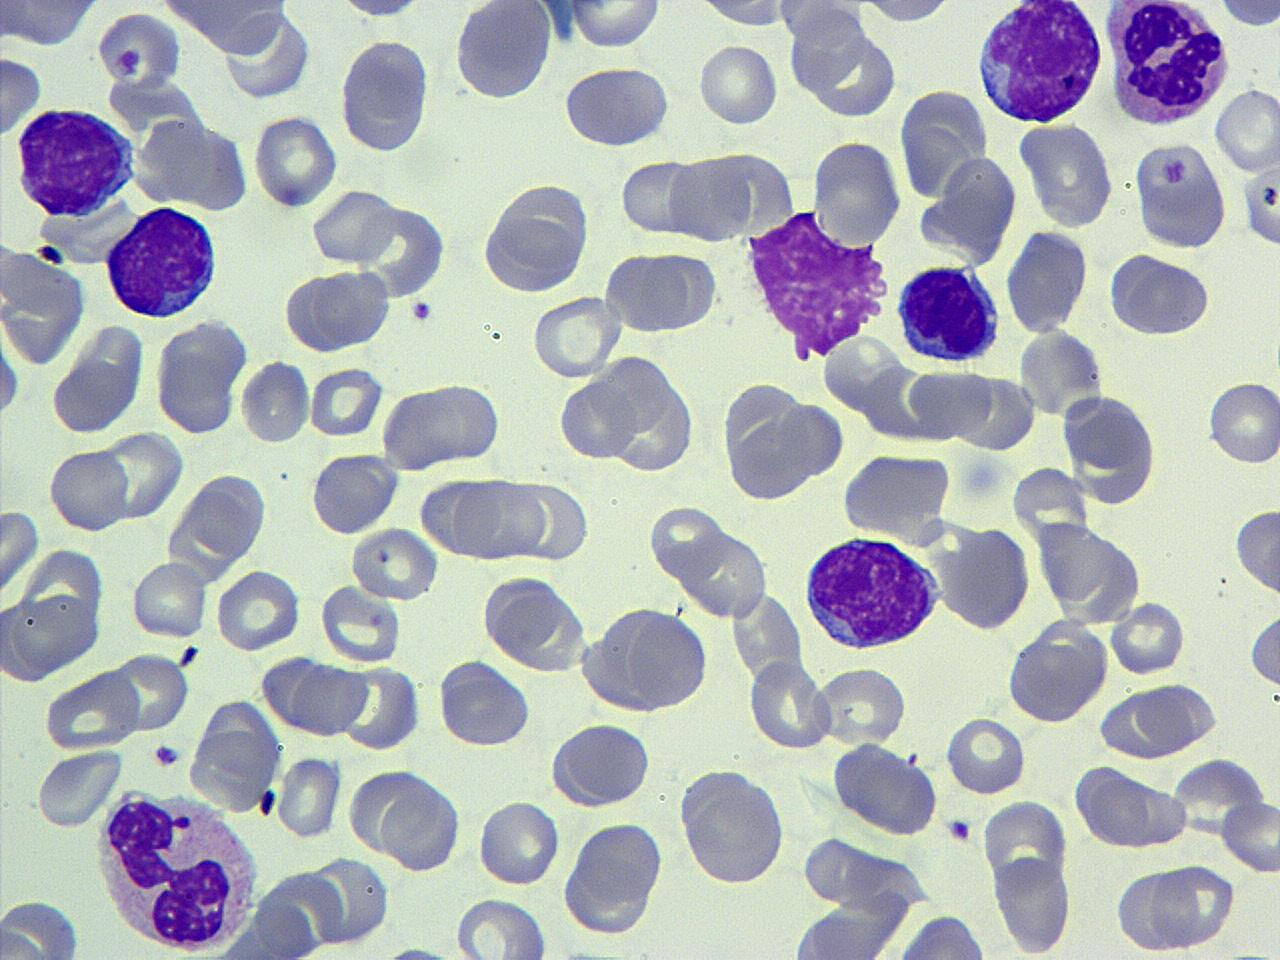Platelets: (96, 8, 183, 93), (959, 453, 1003, 502), (544, 2, 576, 46), (386, 942, 448, 960), (151, 742, 182, 770), (556, 943, 606, 960), (944, 815, 974, 843), (258, 786, 280, 818), (554, 17, 576, 47), (410, 297, 434, 323)
RBC: (1, 540, 109, 684), (558, 818, 664, 940), (597, 350, 698, 478), (786, 10, 901, 122), (914, 153, 1022, 265), (1006, 613, 1110, 727), (1061, 390, 1159, 509), (338, 34, 433, 156), (152, 316, 247, 436), (168, 468, 273, 576), (932, 524, 1036, 632), (1132, 138, 1230, 251), (1016, 119, 1116, 229), (0, 246, 90, 367), (832, 742, 944, 838), (810, 136, 904, 248), (843, 449, 954, 542), (560, 63, 672, 149), (439, 474, 546, 564), (546, 721, 654, 808), (187, 716, 280, 814), (435, 656, 534, 748), (1107, 251, 1209, 340), (220, 7, 314, 100), (251, 112, 340, 210), (678, 528, 768, 622), (529, 293, 625, 381), (992, 853, 1074, 955), (814, 662, 909, 748), (746, 660, 834, 752), (34, 744, 125, 832), (380, 777, 464, 872), (306, 855, 392, 946), (668, 152, 751, 246), (43, 670, 139, 751), (1152, 859, 1236, 951), (308, 450, 397, 536), (696, 39, 780, 130), (346, 766, 429, 858), (1114, 863, 1196, 956), (214, 566, 302, 652), (730, 586, 804, 688), (102, 430, 184, 522), (478, 796, 560, 888), (349, 522, 441, 604), (340, 660, 420, 754), (96, 8, 184, 92), (380, 382, 458, 476), (48, 445, 129, 535), (417, 380, 502, 465), (310, 186, 398, 267), (822, 330, 906, 414), (318, 581, 403, 663), (110, 648, 191, 734), (47, 356, 134, 436), (906, 363, 994, 441), (944, 714, 1027, 796), (558, 375, 637, 461), (238, 356, 312, 447), (512, 478, 592, 561), (129, 558, 209, 641), (1207, 376, 1279, 468), (451, 895, 551, 959), (316, 265, 392, 348), (618, 158, 697, 236), (292, 660, 367, 742), (646, 503, 723, 581), (284, 271, 354, 356), (1213, 85, 1279, 175), (1108, 600, 1186, 676), (259, 652, 332, 733), (307, 362, 383, 439), (275, 753, 340, 841), (0, 896, 84, 960), (0, 0, 105, 51), (888, 910, 993, 958), (566, 0, 662, 50), (1220, 799, 1280, 873), (1232, 505, 1280, 596), (0, 506, 41, 598), (0, 55, 42, 139), (1241, 163, 1279, 250), (692, 0, 794, 31), (1248, 604, 1280, 696), (856, 0, 956, 28), (333, 0, 425, 24), (1220, 0, 1280, 29), (0, 341, 21, 418)
WBC: (92, 786, 262, 957), (743, 210, 895, 364), (800, 530, 945, 654), (1103, 1, 1233, 132), (974, 0, 1105, 127), (720, 375, 846, 503), (577, 602, 714, 716), (0, 541, 108, 681), (105, 200, 224, 323), (13, 105, 138, 220), (676, 762, 790, 888), (595, 350, 700, 478), (784, 9, 903, 121), (478, 180, 593, 294), (561, 817, 667, 937), (1058, 390, 1162, 510), (152, 314, 251, 439), (337, 31, 435, 156), (1008, 610, 1113, 724), (480, 571, 590, 678), (1133, 137, 1233, 254), (166, 470, 272, 580), (894, 260, 1004, 366), (0, 241, 89, 366), (450, 0, 556, 104), (919, 153, 1020, 262), (936, 520, 1034, 630), (834, 736, 944, 834), (562, 61, 674, 152), (1098, 678, 1222, 760), (1104, 252, 1216, 340), (216, 4, 316, 100), (436, 654, 535, 750), (549, 721, 654, 809), (1004, 226, 1088, 336), (153, 1, 298, 60), (380, 774, 466, 870), (311, 450, 399, 540), (0, 1, 104, 50), (888, 912, 993, 959), (1232, 504, 1280, 598), (1248, 609, 1280, 693)
